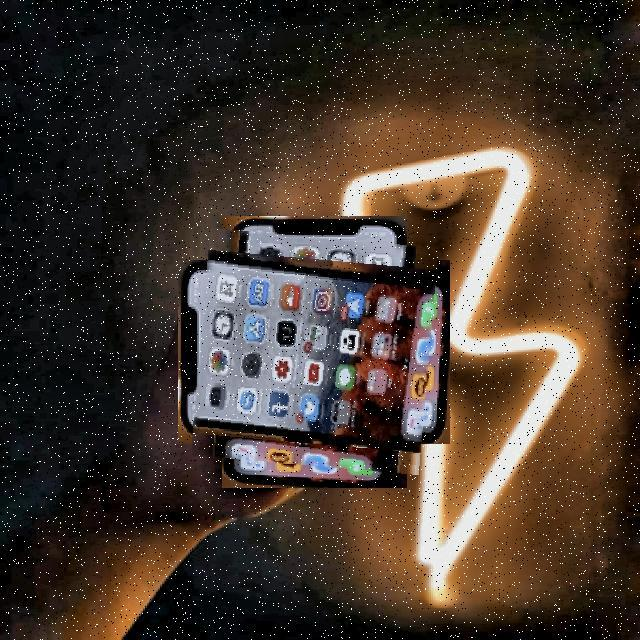Phone: (195, 233, 434, 471)
